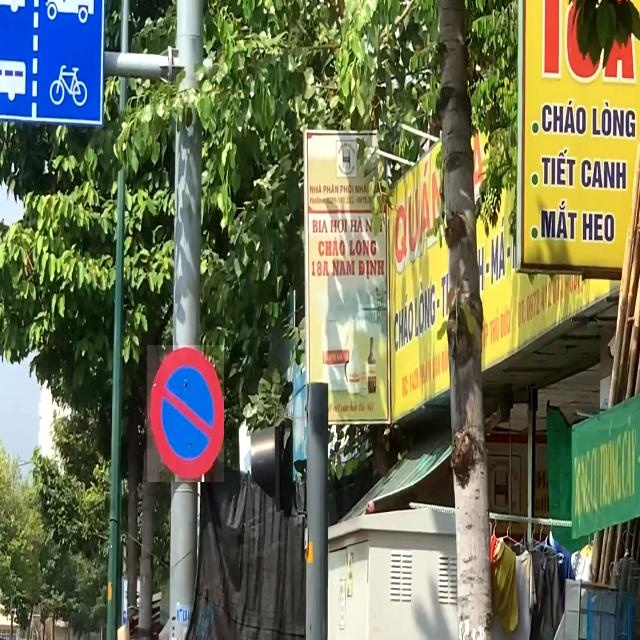bien_cam: (147, 345, 224, 482)
